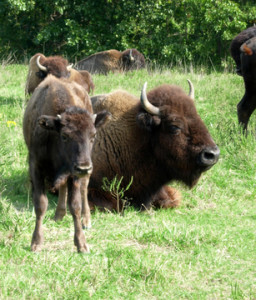zubr: (92, 69, 230, 224), (8, 55, 101, 257), (77, 41, 156, 76)
